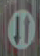Two way: (2, 4, 39, 50)
